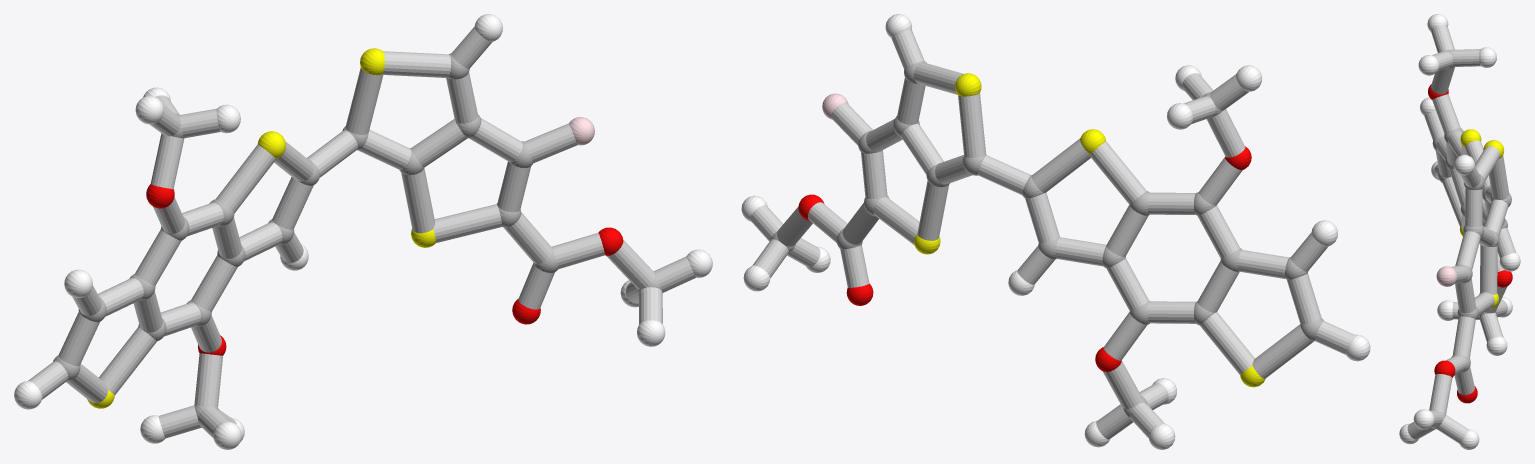
File: Dimethoxy_Benzodithiophene_Phi_30_Theta_160_Methylcarbonyl_3_Fluoro_Thienothiophene.glb
3 views of the same model, side by side, from view 1: azimuth 30°, elevation 25°; view 2: azimuth 150°, elevation 25°; view 3: azimuth 270°, elevation 25° (orthographic). The views are drawn at different scales.
Visible parts, largest first — view 1: grp15205, grp8689, grp1, grp13395, grp7241; view 2: grp15205, grp8689, grp1, grp7241, grp13395; view 3: grp15205, grp8689, grp1, grp13395, grp7241, grp14843.
Part boxes in pixels (x1,y1,x2,y2): grp15205: [28, 27, 695, 438]; grp8689: [14, 14, 712, 449]; grp1: [53, 53, 660, 427]; grp13395: [146, 184, 623, 355]; grp7241: [87, 48, 435, 408]; grp15205: [750, 29, 1354, 439]; grp8689: [741, 14, 1370, 449]; grp1: [771, 61, 1323, 417]; grp7241: [914, 73, 1265, 387]; grp13395: [798, 146, 1251, 371]; grp15205: [1407, 25, 1515, 443]; grp8689: [1399, 14, 1520, 449]; grp1: [1432, 49, 1511, 429]; grp13395: [1428, 84, 1512, 403]; grp7241: [1459, 129, 1504, 308]; grp14843: [1436, 266, 1457, 286].
Bounding box in the file's own units: 16.51 × 9.41 × 3.48.
